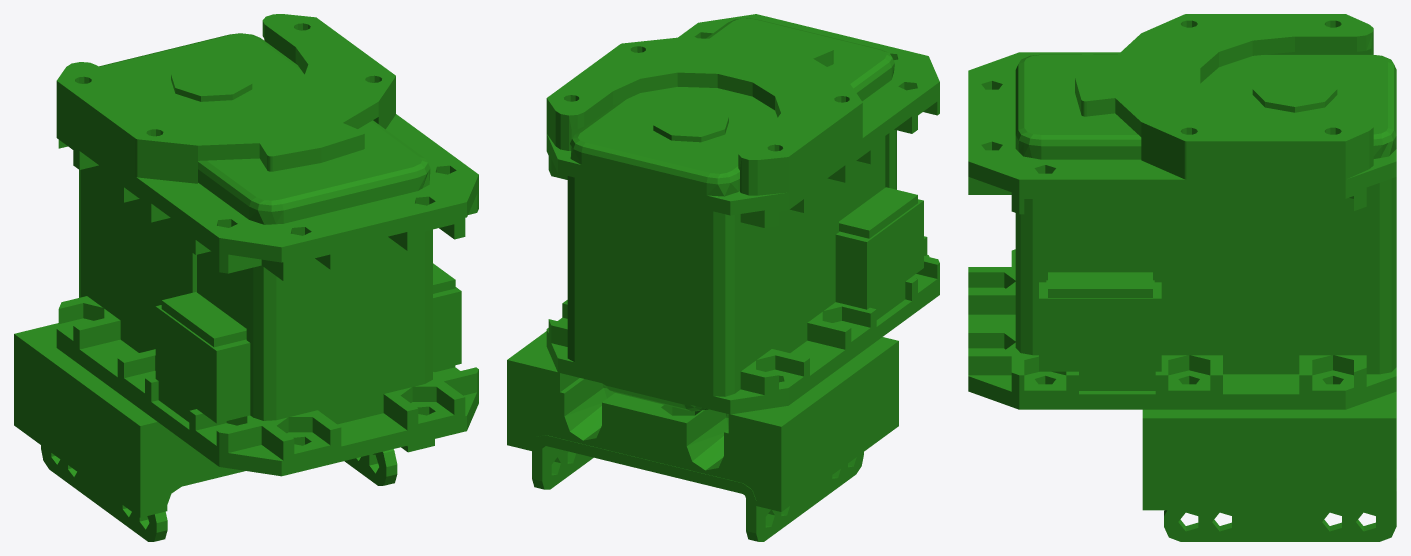
Rendered from wrist.dae.
3 renders of one model, left to right at view 1: azimuth 30°, elevation 25°; view 2: azimuth 150°, elevation 25°; view 3: azimuth 270°, elevation 25°, orthographic. The views are drawn at different scales.
Parts seen in each view (by area): view 1: Wrist; view 2: Wrist; view 3: Wrist.
Part boxes in pixels (x1,y1,x2,y2): Wrist: (14, 14, 478, 541); Wrist: (507, 14, 939, 541); Wrist: (968, 14, 1396, 541).
Bounding box in the file's own units: 0.0404 × 0.0506 × 0.0528.
Materials: 1 (1 with a texture image).
